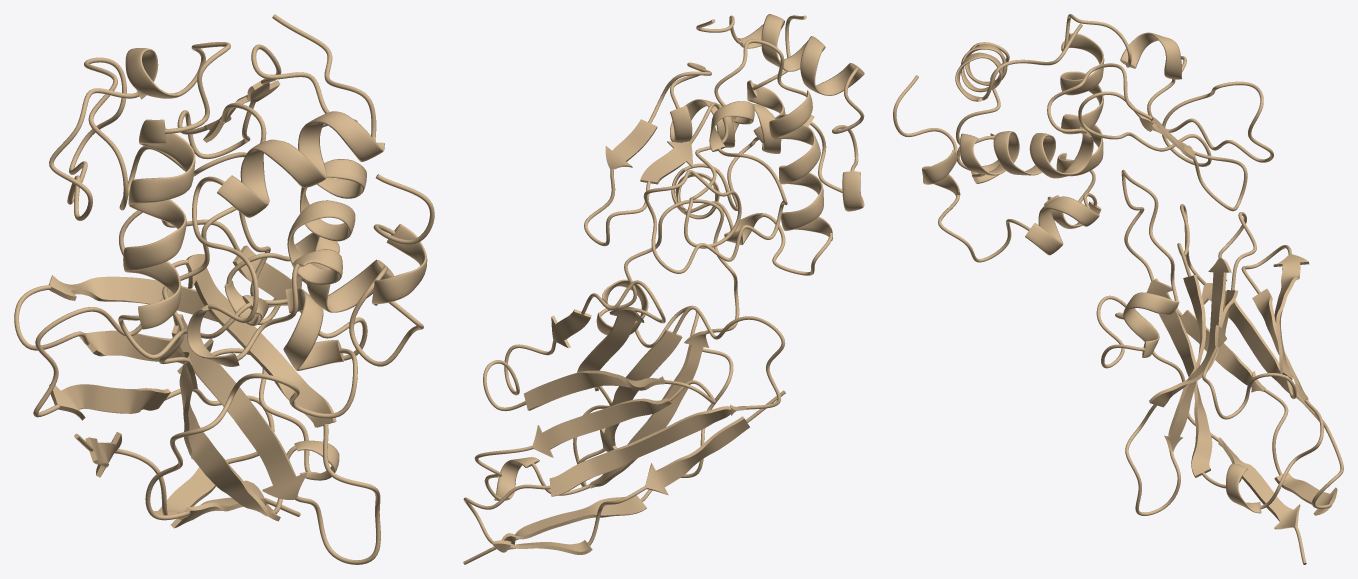
Rendered from 1mel.glb.
3 views of the same model, side by side, from view 1: azimuth 30°, elevation 25°; view 2: azimuth 150°, elevation 25°; view 3: azimuth 270°, elevation 25° (orthographic). The views are drawn at different scales.
Visible parts, largest first — view 1: ribbons; view 2: ribbons; view 3: ribbons.
Part boxes in pixels (x1,y1,x2,y2): ribbons: (14,14,434,564); ribbons: (463,14,864,564); ribbons: (893,14,1343,564).
Bounding box in the file's own units: 33.24 × 59.32 × 50.67.
